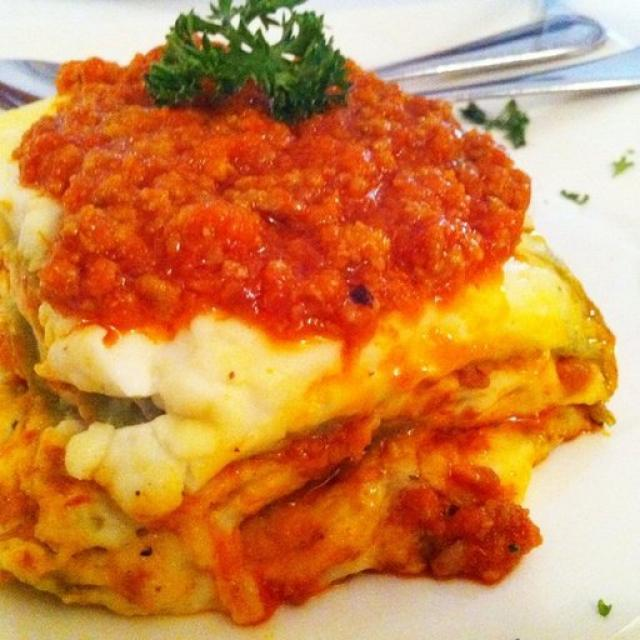Lasagna: (18, 27, 629, 605)
